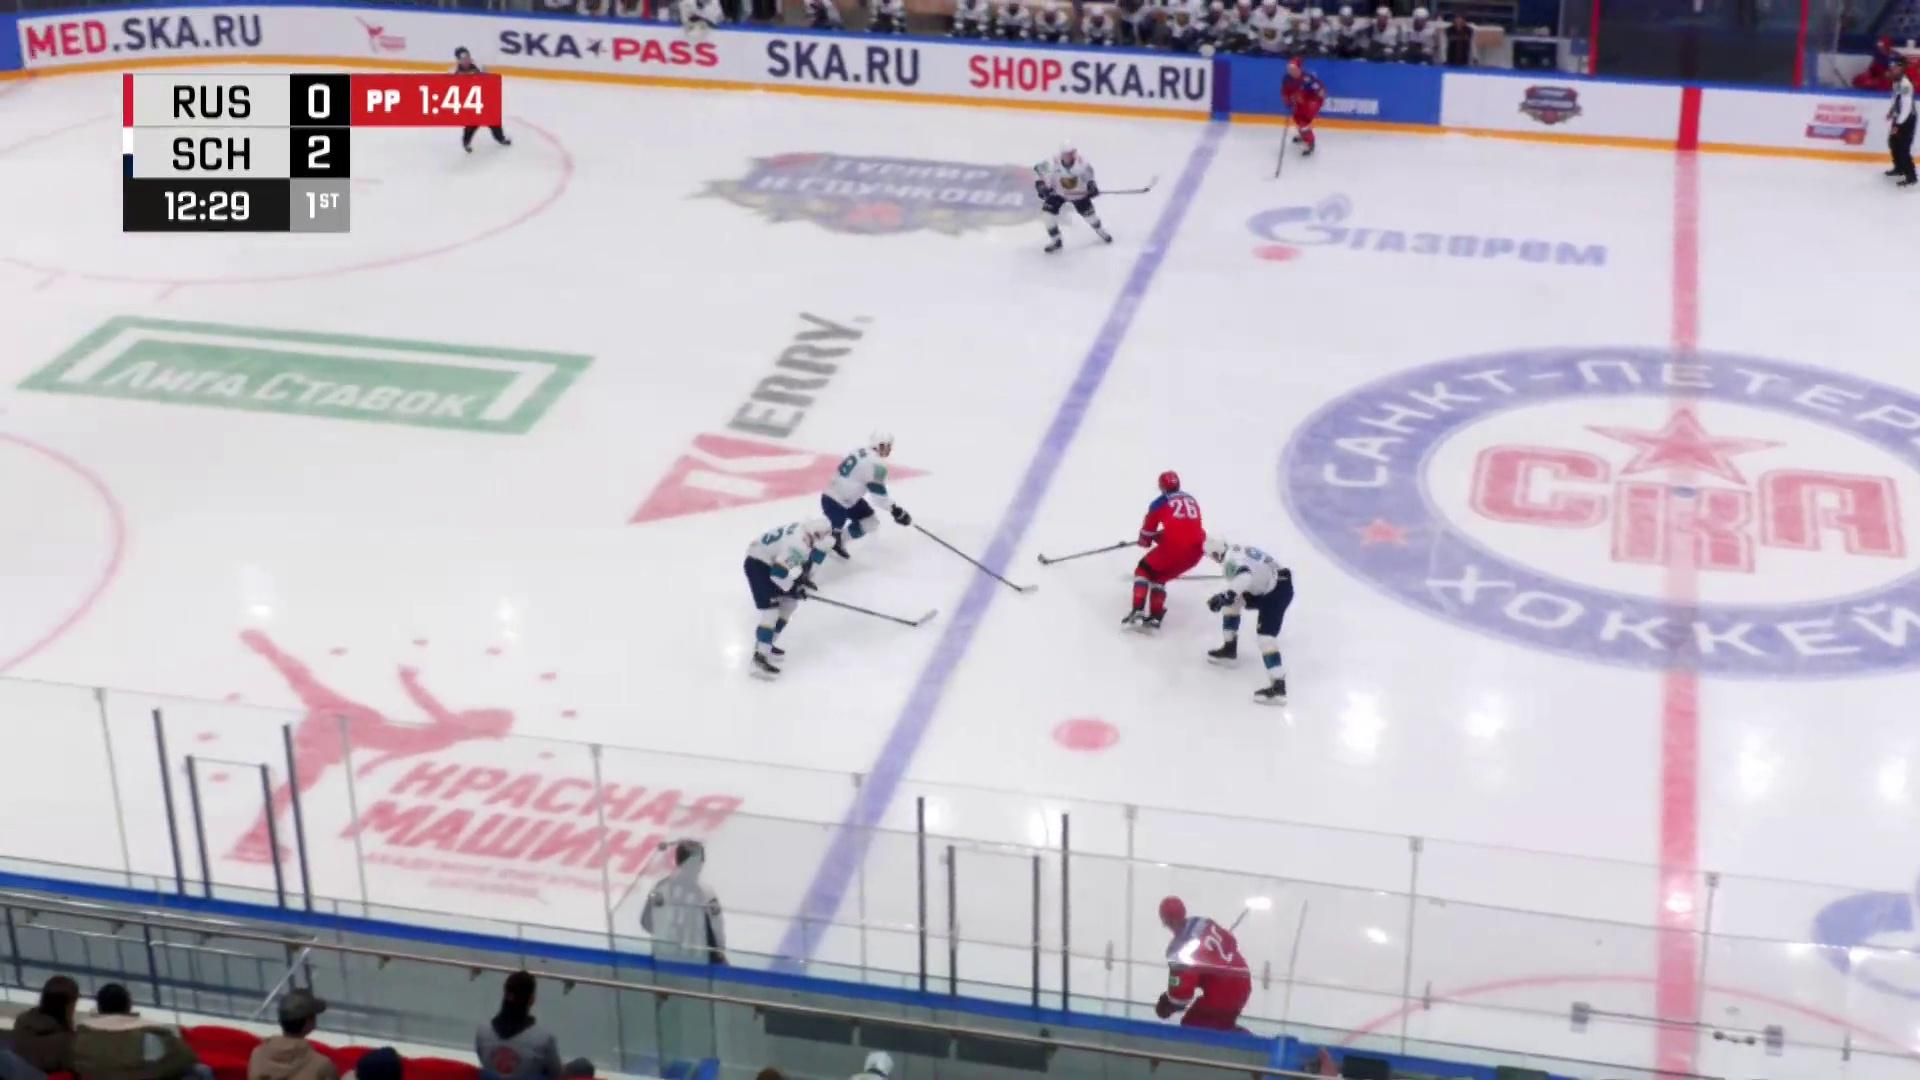ball: (1118, 541, 1126, 545)
